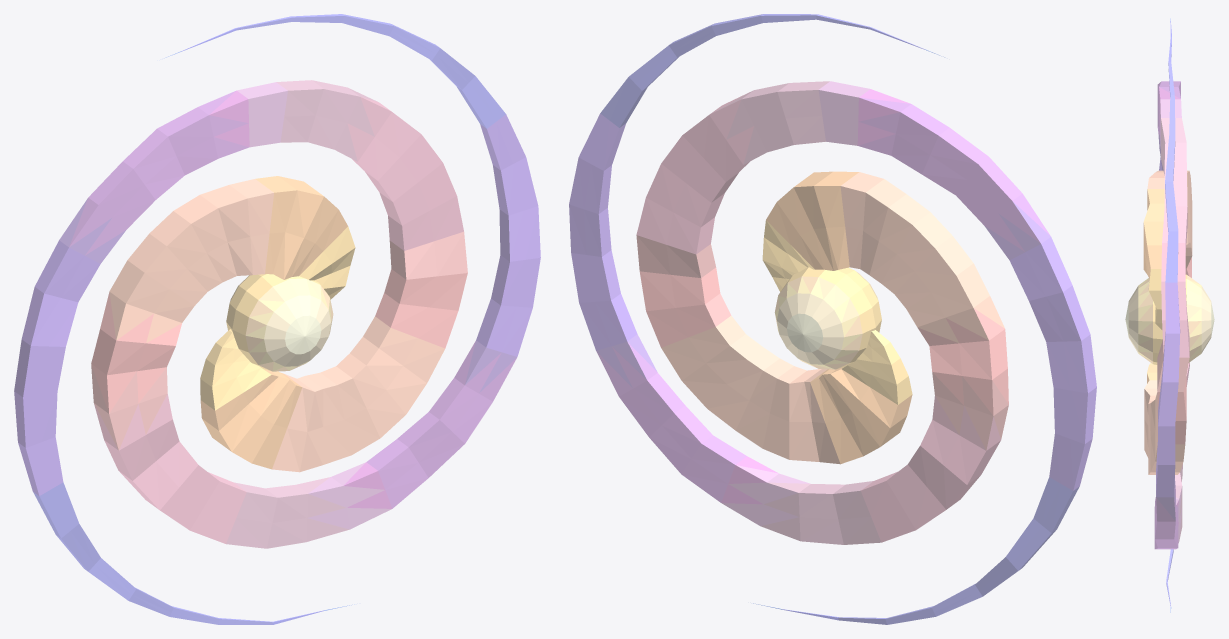
The model's file is galaxy-010.glb.
The picture shows the model from 3 angles, left to right: view 1: azimuth 30°, elevation 25°; view 2: azimuth 150°, elevation 25°; view 3: azimuth 270°, elevation 25°; orthographic projection. The views are drawn at different scales.
Parts seen in each view (by area): view 1: galaxy-010; view 2: galaxy-010; view 3: galaxy-010.
Part boxes in pixels (<box>): galaxy-010: <box>14,14,540,624</box>; galaxy-010: <box>569,14,1096,624</box>; galaxy-010: <box>1125,18,1214,612</box>.
Size of the model in its own units: 155 by 174 by 26.28.
